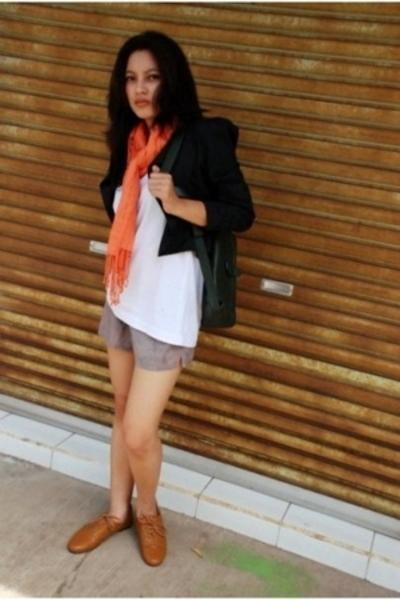jacket: (147, 112, 255, 334)
shirt: (111, 184, 202, 346)
shoe: (67, 503, 166, 566)
shorts: (91, 301, 197, 371)
